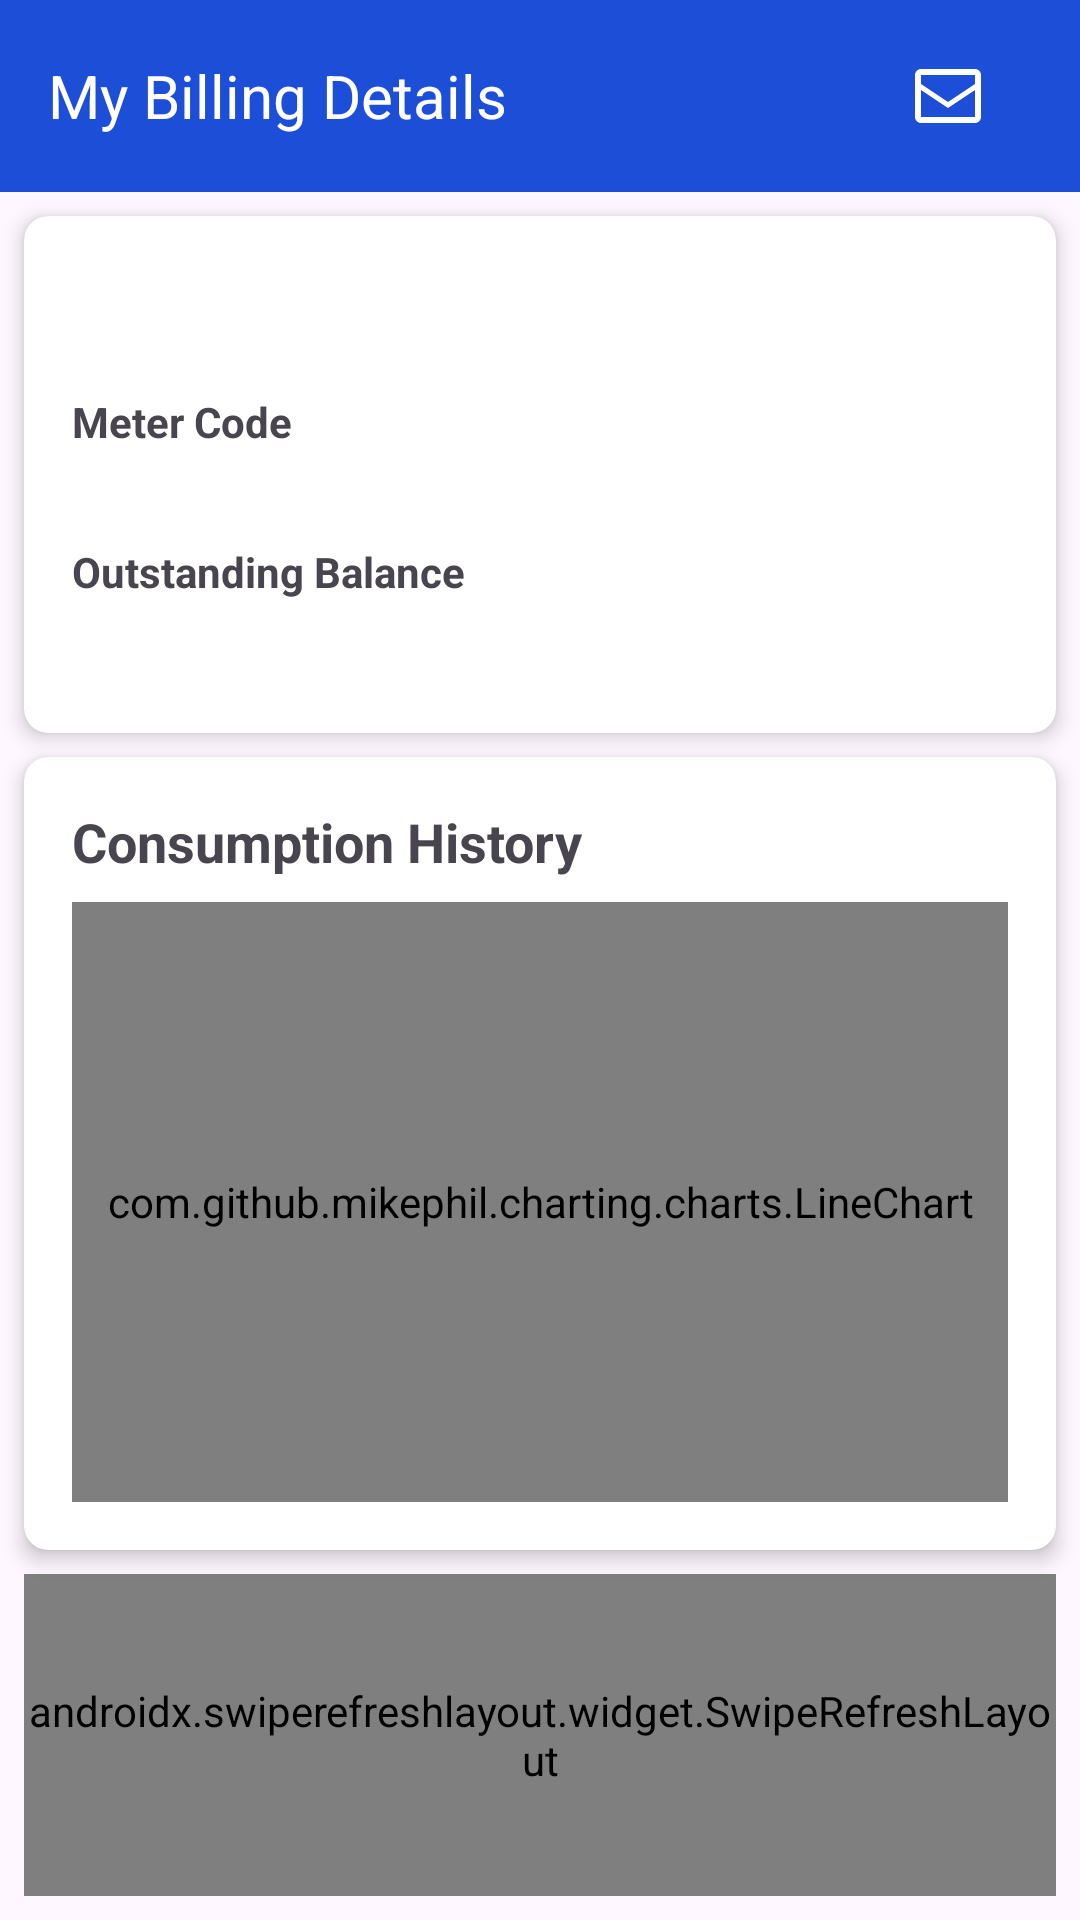

Named icons in this screenshot (1080 x 1920) and their centers, [x,y]:
Inbox: [948,96]
